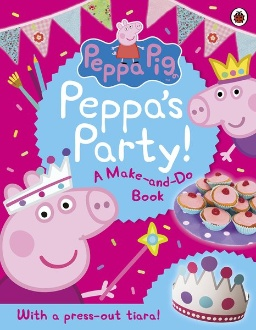Peppa: (1, 158, 119, 312)
